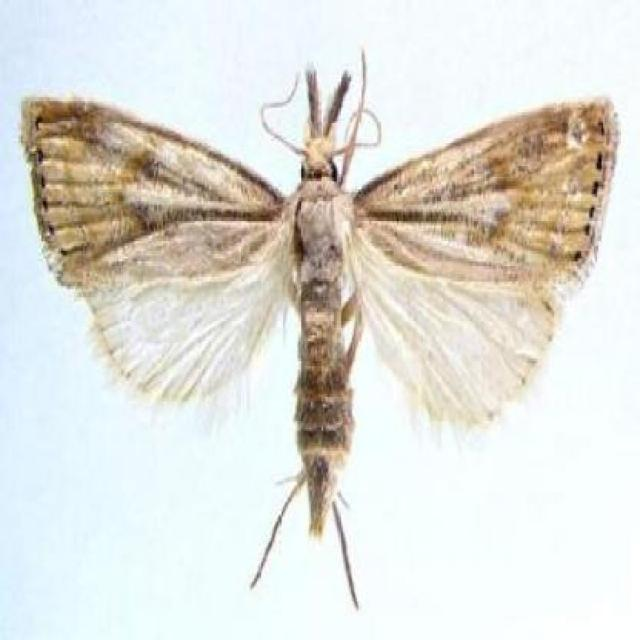stem-borer: (18, 64, 620, 610)
